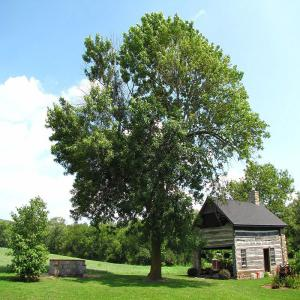Tree: (45, 8, 269, 282)
